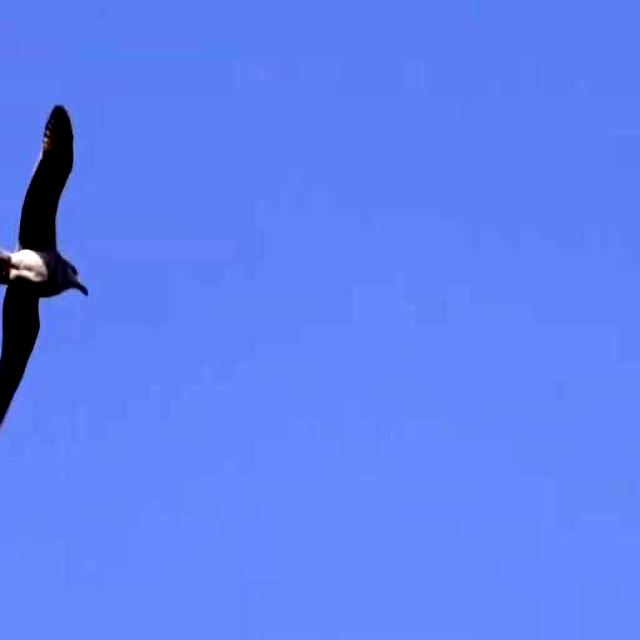airplane: (0, 86, 94, 469)
